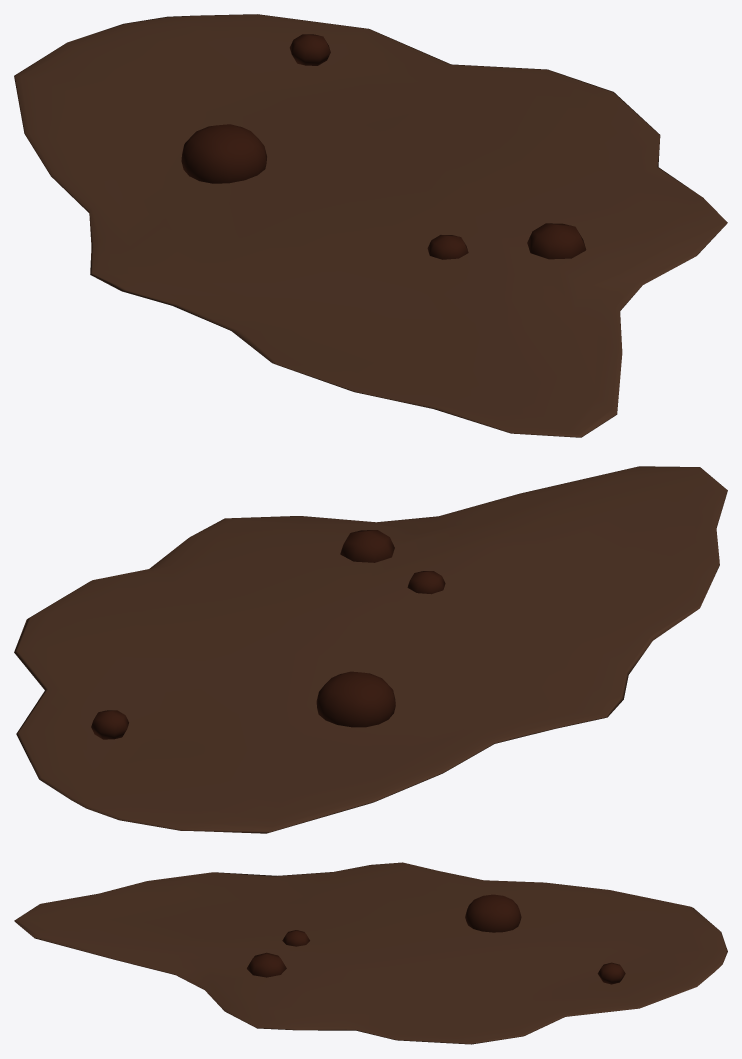
The model's file is Puddle.fbx.
3 views of the same model, one above another, from view 1: azimuth 30°, elevation 25°; view 2: azimuth 150°, elevation 25°; view 3: azimuth 270°, elevation 25° (orthographic). The views are drawn at different scales.
Visible parts, largest first — view 1: Puddle; view 2: Puddle; view 3: Puddle.
Part boxes in pixels (<box>): Puddle: <box>14,14,727,437</box>; Puddle: <box>14,466,727,833</box>; Puddle: <box>14,862,727,1044</box>.
Bounding box in the file's own units: 20041 × 1963 × 32737.
